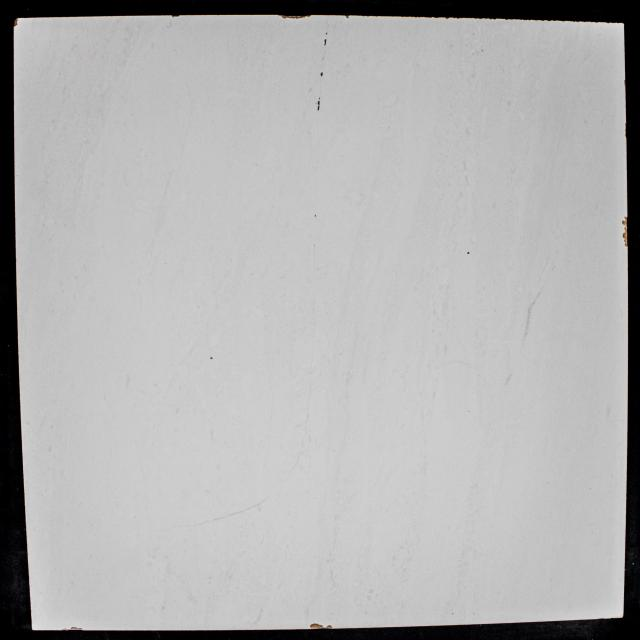edge-chipping: (280, 15, 305, 19), (310, 623, 324, 630), (622, 216, 628, 226), (14, 18, 18, 27), (622, 232, 628, 238), (324, 625, 332, 629), (171, 15, 180, 18), (624, 122, 626, 131), (345, 15, 349, 19), (488, 18, 496, 20), (624, 79, 626, 87), (624, 131, 626, 139), (306, 15, 312, 17), (624, 227, 628, 230), (624, 239, 628, 242), (625, 243, 628, 247), (445, 17, 449, 19), (572, 21, 580, 22)
hole: (317, 100, 321, 105), (324, 38, 326, 46), (320, 72, 323, 77), (317, 106, 320, 111), (210, 356, 213, 360), (325, 32, 328, 35), (467, 252, 470, 254), (318, 98, 320, 100)
line: (284, 438, 304, 480), (304, 360, 313, 434), (198, 513, 237, 525), (240, 497, 268, 512), (312, 208, 318, 276), (312, 300, 316, 344), (324, 14, 330, 32), (320, 57, 325, 66)
